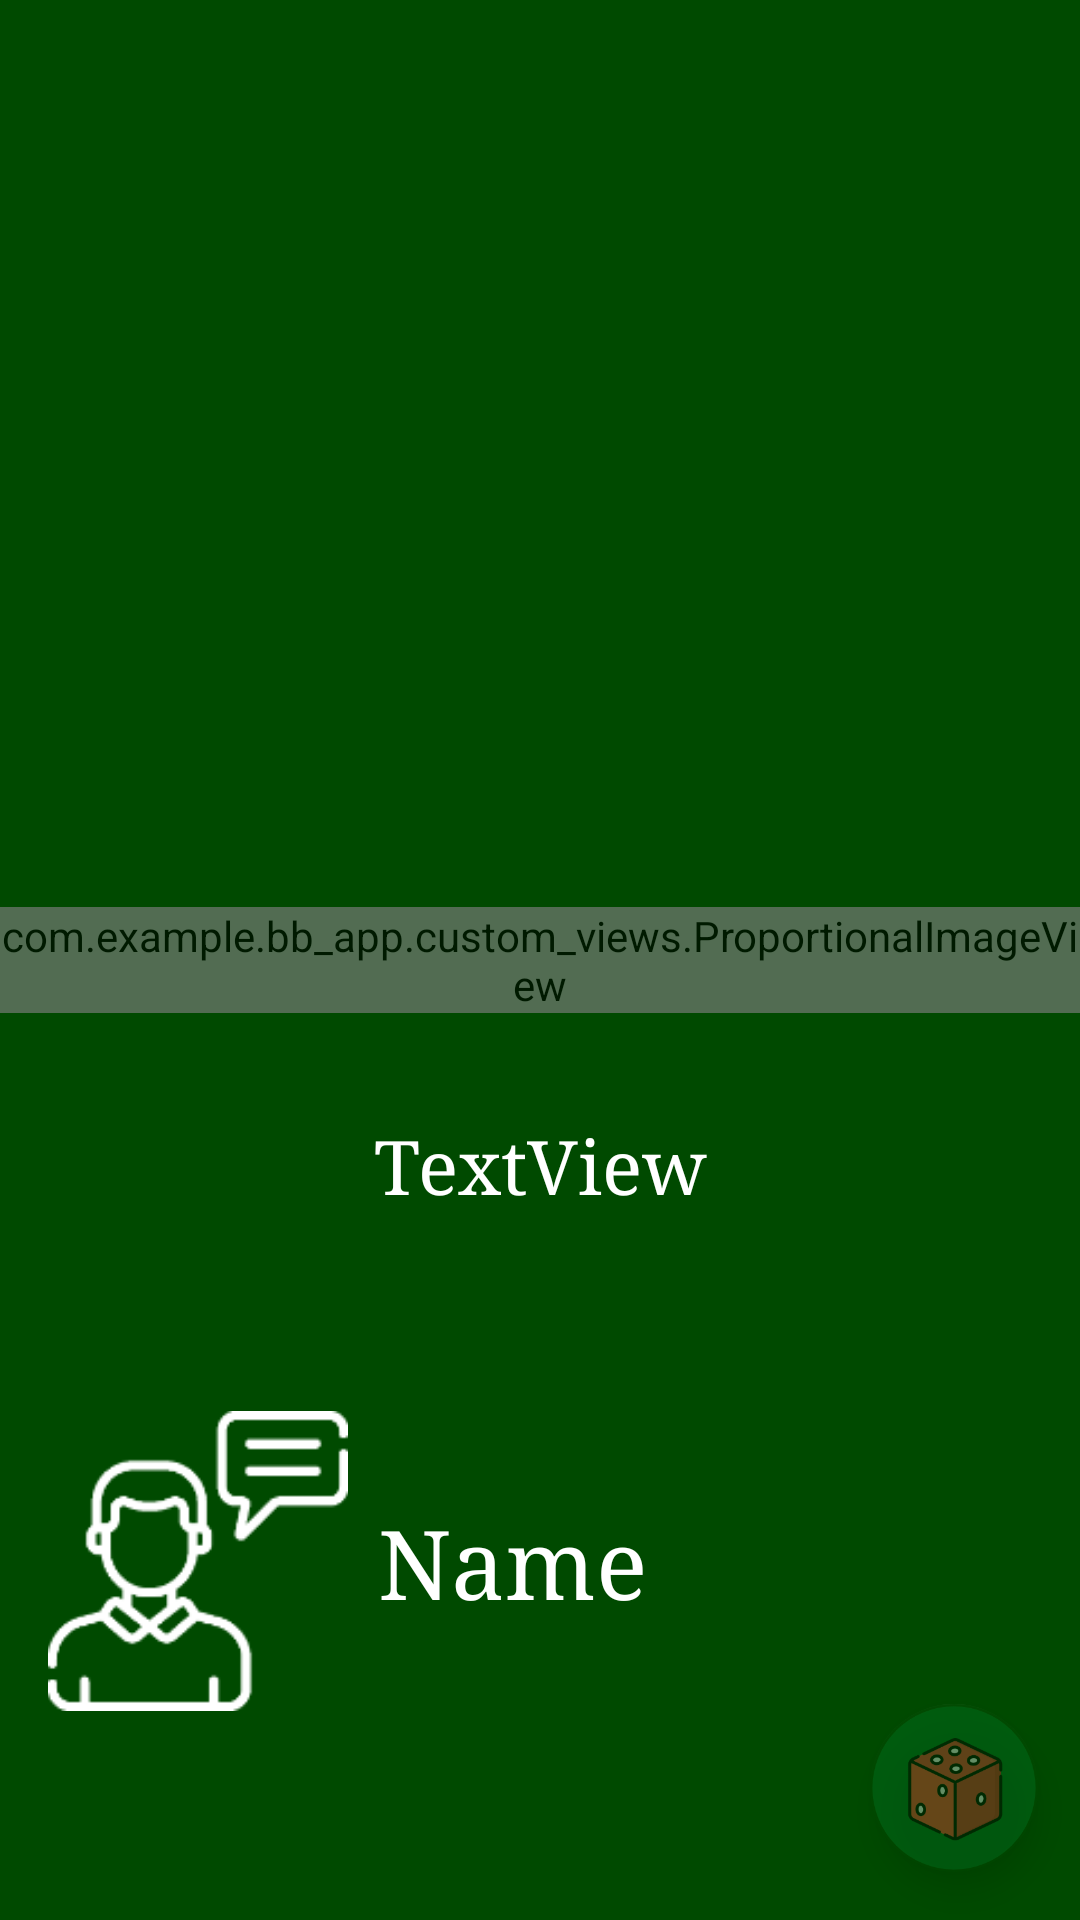

Locate icon controls on the screen. Image size 1080 x 1920, boxes as box(x1, y1, x2, y2).
draw: box(909, 1738, 1002, 1840)
